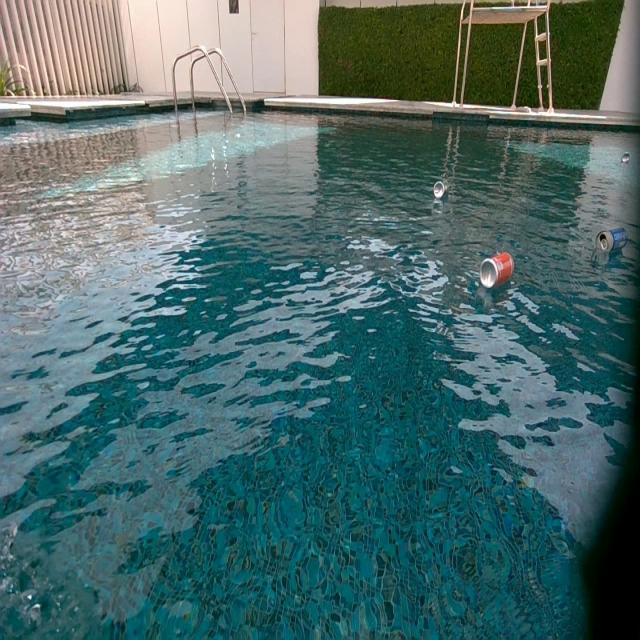Cans: (480, 252, 514, 292), (595, 229, 630, 255), (432, 180, 446, 199), (622, 152, 632, 164)
